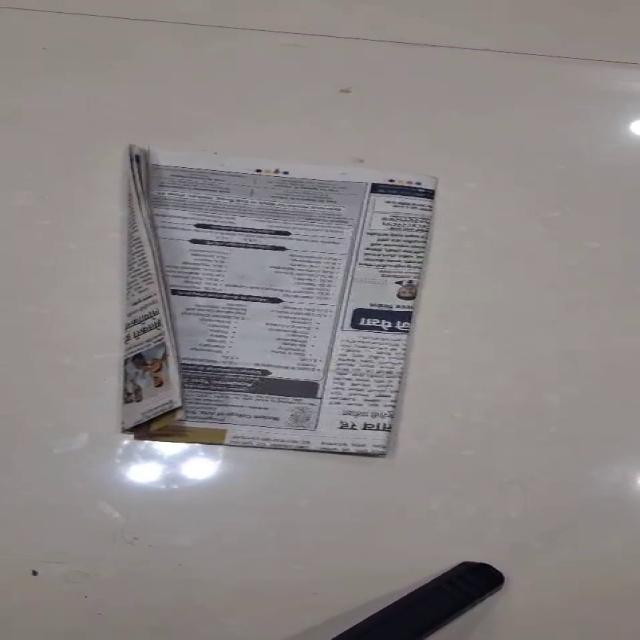paper: (121, 144, 439, 457)
